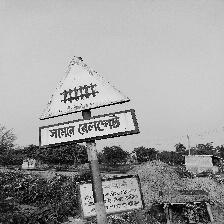Rail-crossing: (38, 56, 139, 147)
